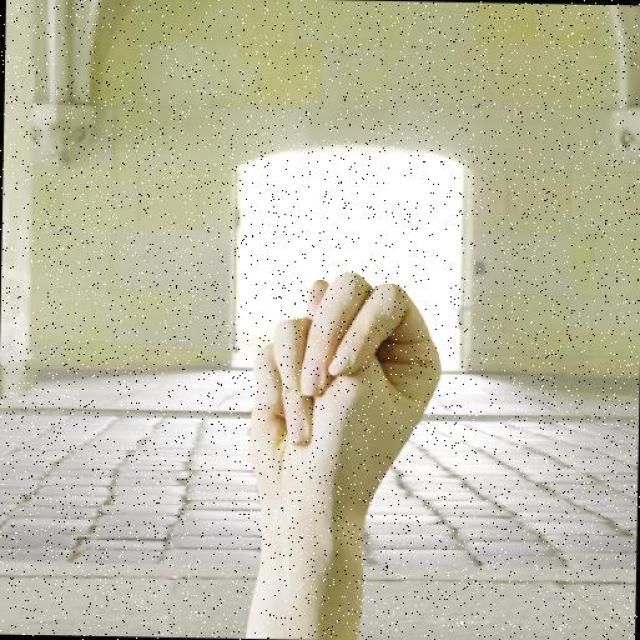N: (244, 265, 446, 516)
